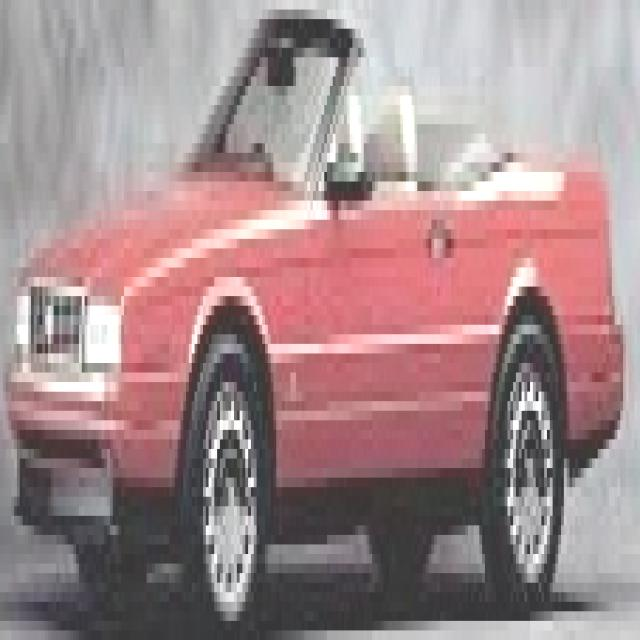red: (6, 17, 618, 606)
